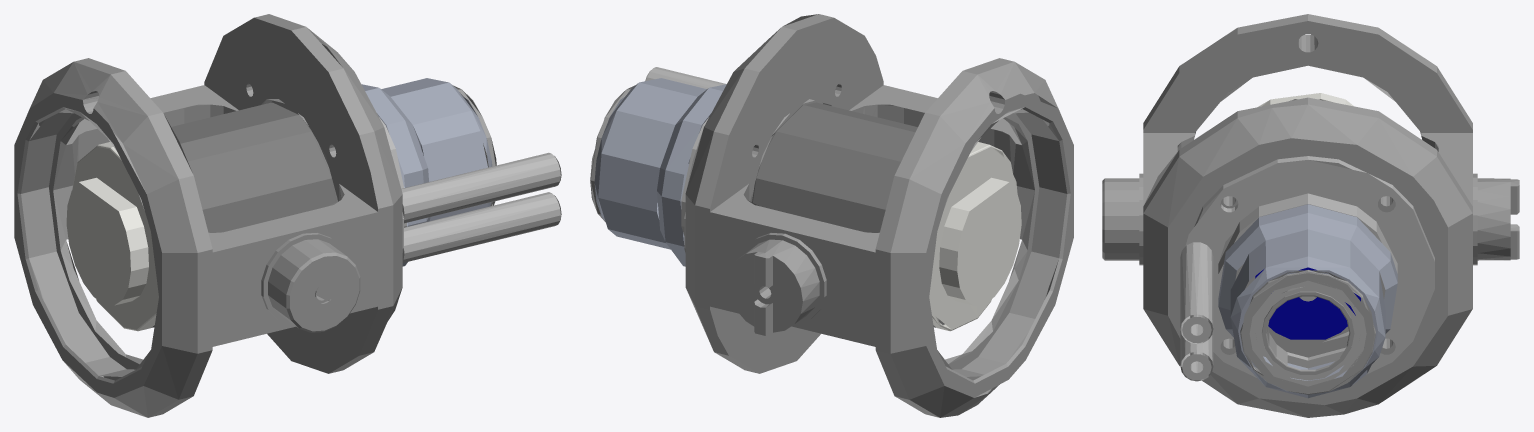
The model's file is Head_1_joint_visu.dae.
The picture shows the model from 3 angles, left to right: view 1: azimuth 30°, elevation 25°; view 2: azimuth 150°, elevation 25°; view 3: azimuth 270°, elevation 25°; orthographic projection. The views are drawn at different scales.
Visible parts, largest first — view 1: Visualization_Neck4; view 2: Visualization_Neck4; view 3: Visualization_Neck4.
Part boxes in pixels (x1,y1,x2,y2): Visualization_Neck4: (14,14,561,417); Visualization_Neck4: (590,14,1073,417); Visualization_Neck4: (1102,14,1519,417).
Size of the model in its own units: 0.0541 by 0.0507 by 0.042.
